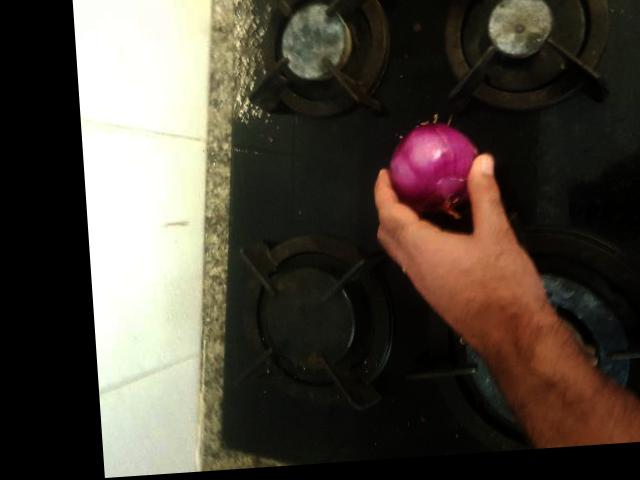onion: (235, 56, 330, 163)
